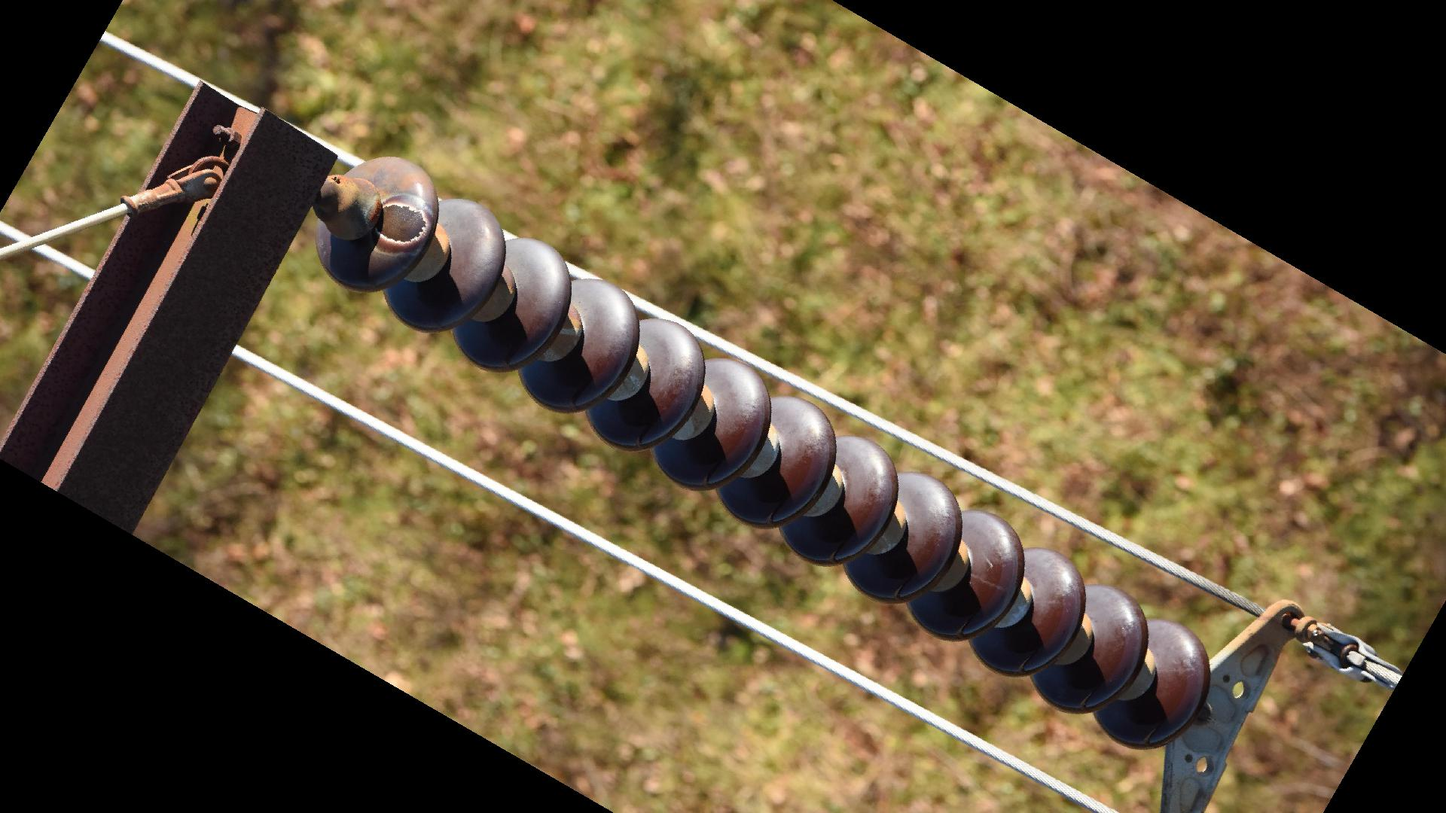insulator: (306, 150, 1218, 755)
insulator_flashover: (375, 201, 430, 245)
